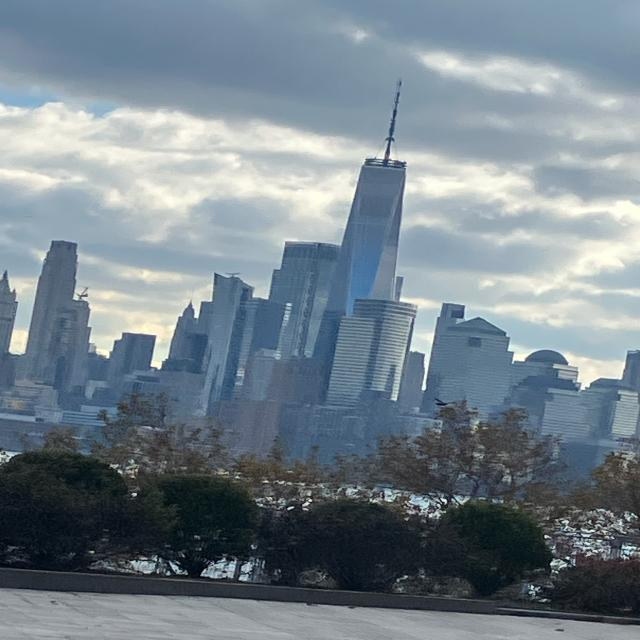WTC: (327, 78, 424, 301)
